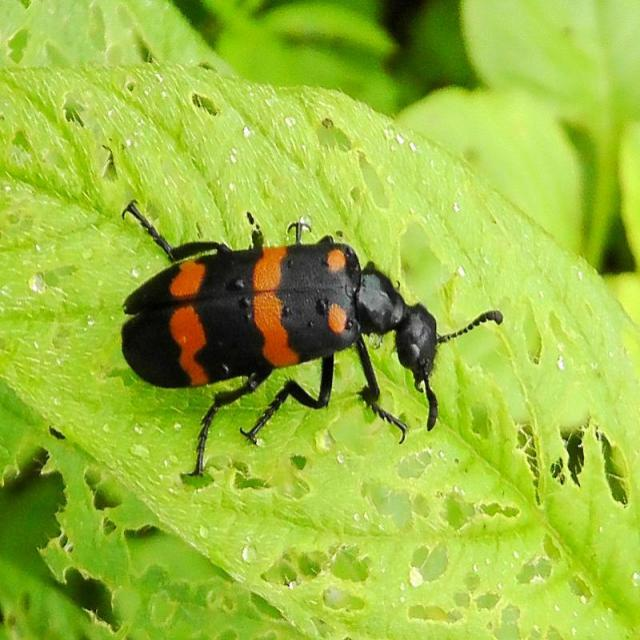BlisterBeetle-Adult-: (113, 191, 510, 458)
